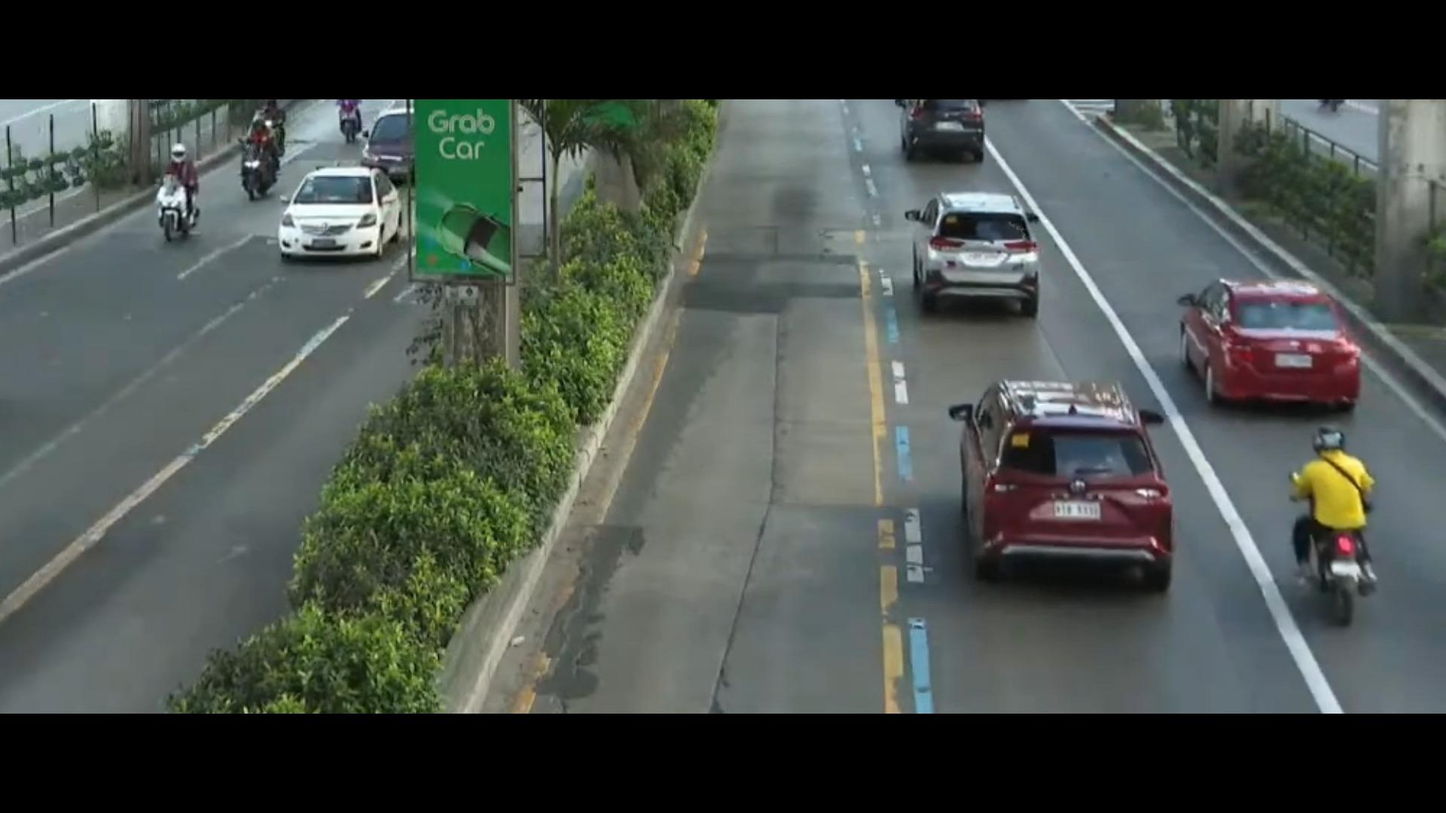Motorcycle: (1275, 419, 1403, 615), (218, 111, 307, 217), (146, 151, 207, 253), (258, 94, 307, 166), (338, 98, 366, 152)
SUV: (899, 358, 1202, 618), (894, 151, 1077, 348)
Sedan: (1192, 258, 1360, 417), (271, 153, 411, 276)
